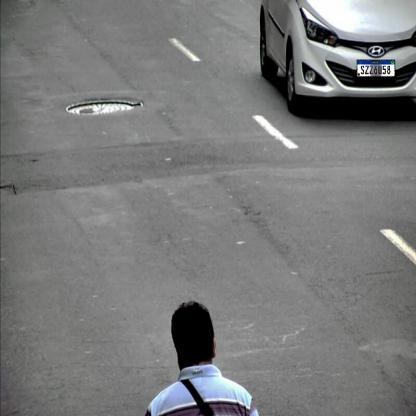PlacaM: (357, 60, 395, 77)
